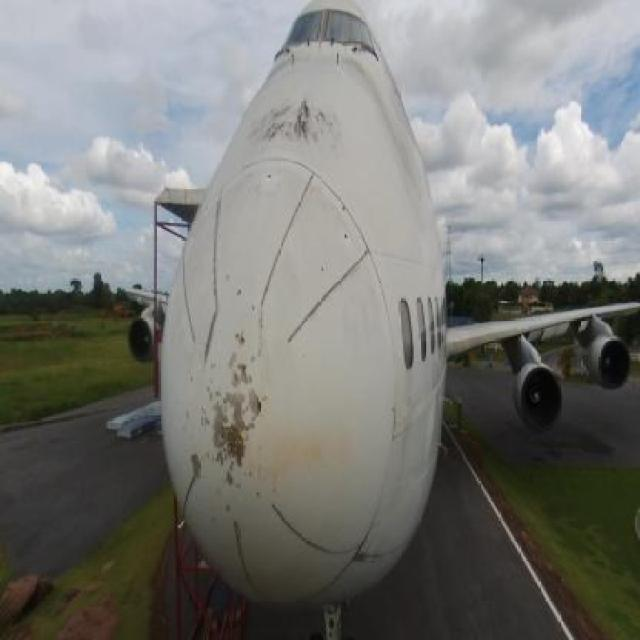Rust: (249, 93, 356, 164), (263, 419, 359, 481), (212, 416, 250, 476)
Scartch: (196, 364, 272, 476), (182, 440, 207, 502), (350, 536, 378, 578)
